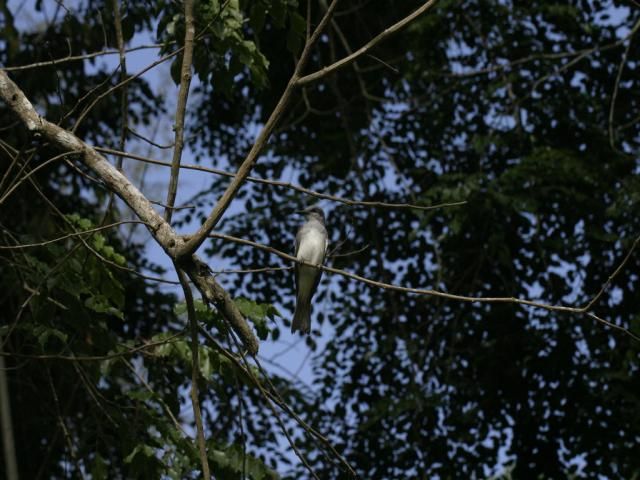Bird: (292, 205, 328, 337)
